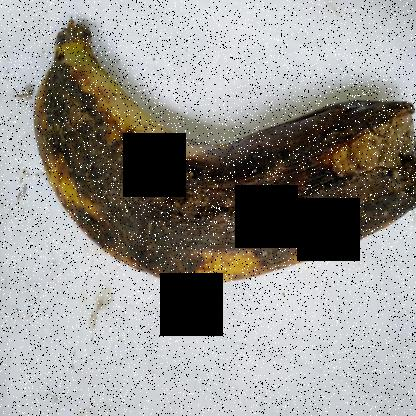rotten: (29, 24, 415, 307)
